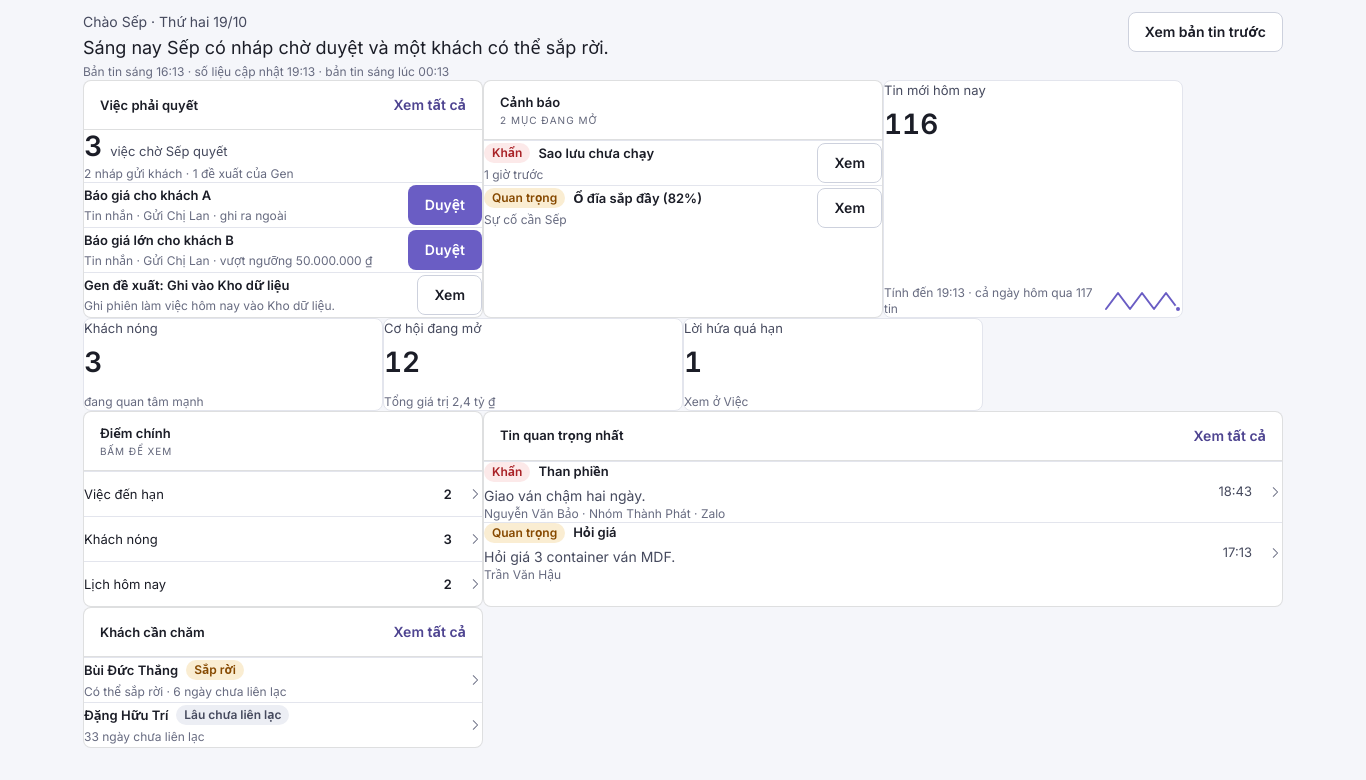
Test: Tình báo (/owner) › Điểm chính: bấm mục ⇒ mở rộng ≤ 5 dòng + link; Cảnh báo viền bad khi có mục Khẩn; sparkline chỉ từ only=messages_in; không có Chi phí AI
The image size is (1366, 780).
Click the button "Lịch hôm nay 2". click: (125, 584)
box: [84, 562, 482, 606]
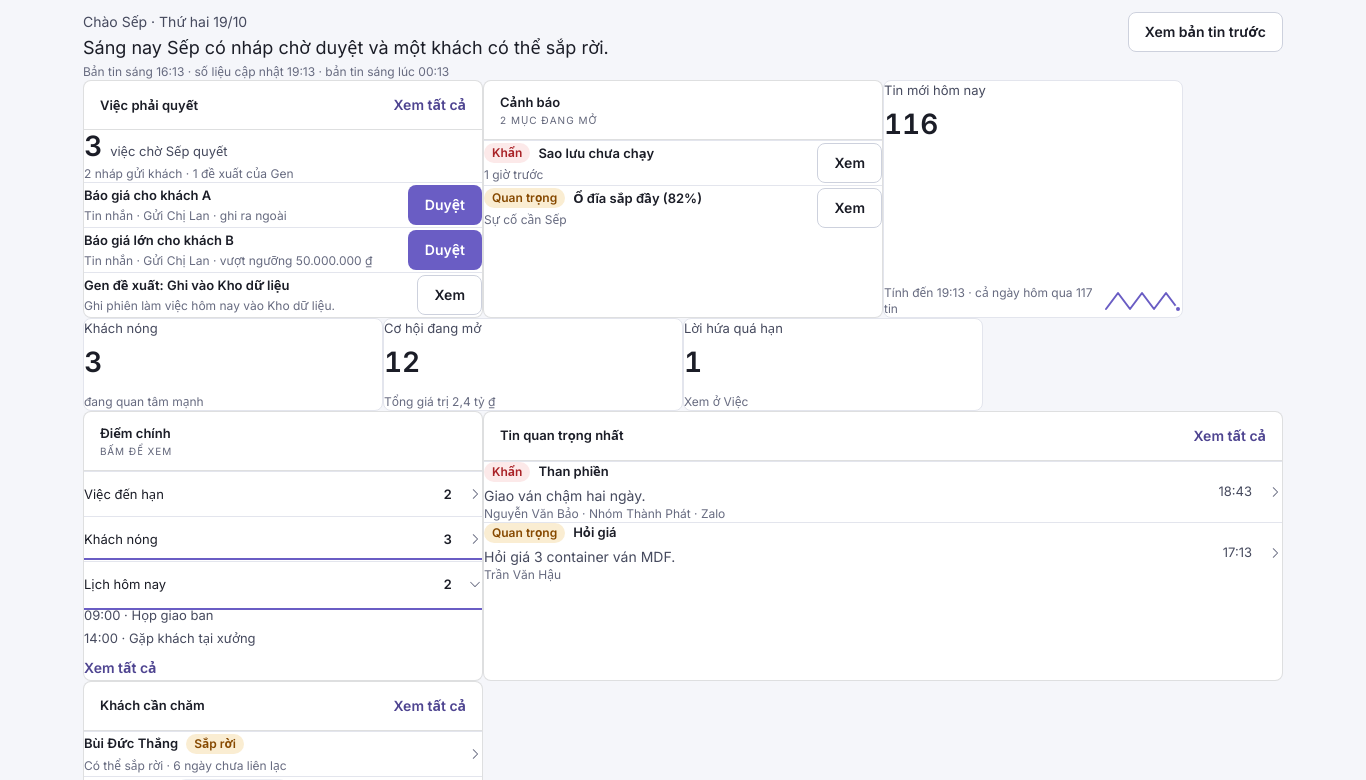
Expected: the text "Khẩn" next to "Sao lưu chưa chạy" is shown, [492, 145, 522, 160]
Result: the list item "09:00 · Họp giao ban" is shown at [84, 607, 214, 623]
Result: the link "Xem tất cả" below "14:00 · Gặp khách tại xưởng" is shown at [84, 656, 157, 680]
